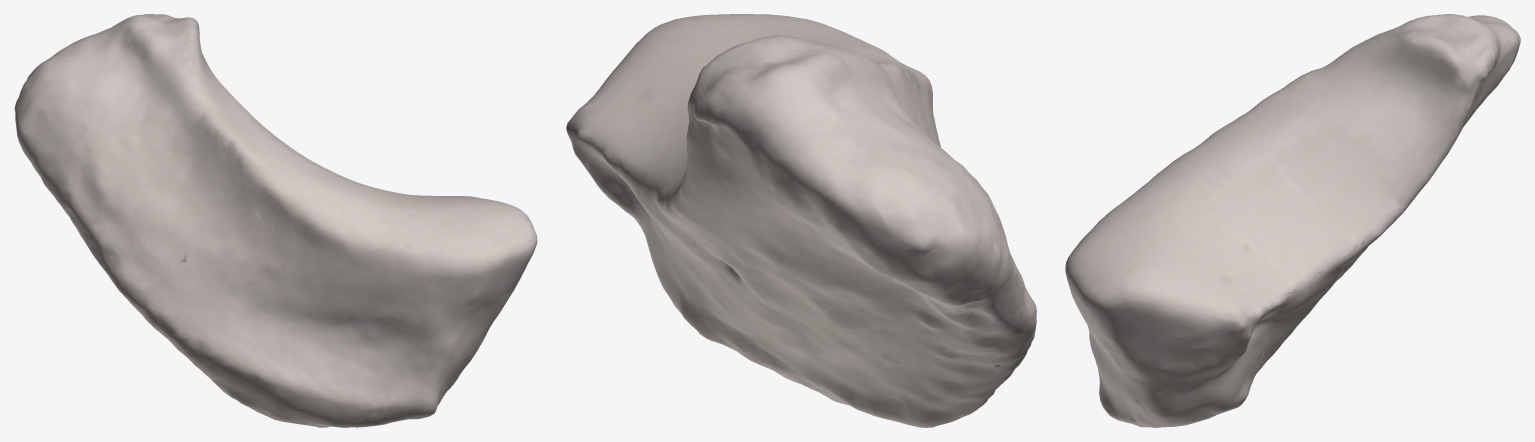
3 views of the same model, side by side, from view 1: azimuth 30°, elevation 25°; view 2: azimuth 150°, elevation 25°; view 3: azimuth 270°, elevation 25° (orthographic). The views are drawn at different scales.
Parts seen in each view (by area): view 1: Os tarsale secundum_li_Katze.001; view 2: Os tarsale secundum_li_Katze.001; view 3: Os tarsale secundum_li_Katze.001.
Part boxes in pixels (x1,y1,x2,y2): Os tarsale secundum_li_Katze.001: [14, 14, 537, 427]; Os tarsale secundum_li_Katze.001: [566, 14, 1036, 427]; Os tarsale secundum_li_Katze.001: [1065, 14, 1520, 427].
Size of the model in its own units: 500 by 434 by 507.
Materials: 1 (1 with a texture image).
